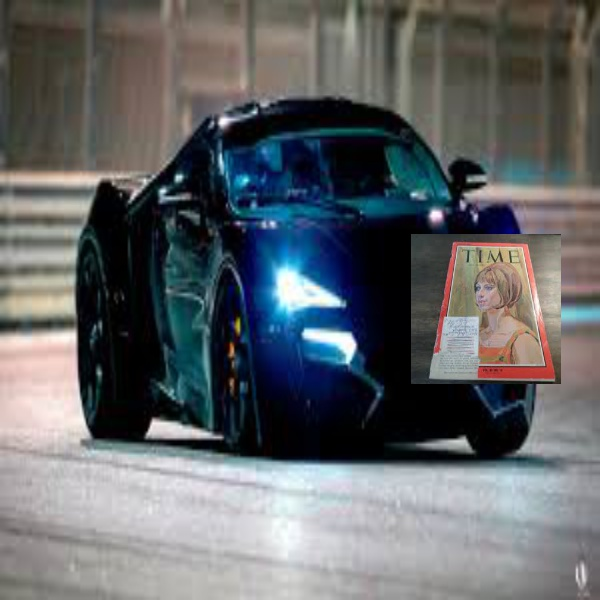time_cover: (413, 237, 562, 386)
